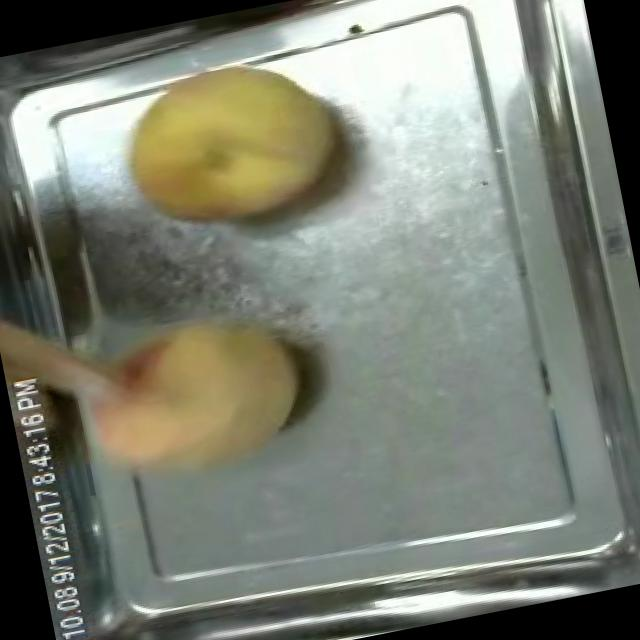Fruit: (95, 27, 364, 255), (56, 281, 327, 507)
